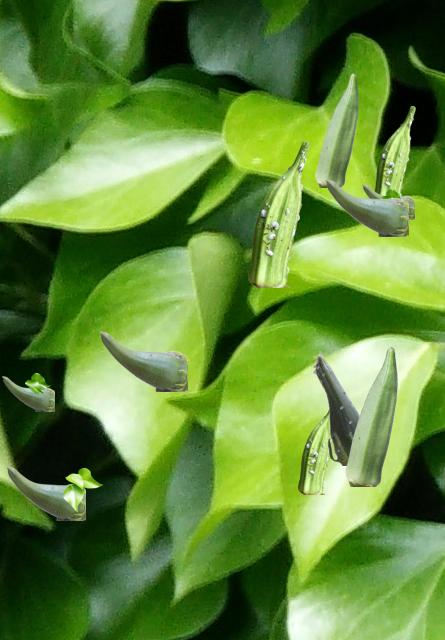okra: (248, 141, 308, 286), (345, 347, 396, 485), (312, 351, 360, 464), (99, 331, 186, 390), (315, 73, 357, 186), (325, 179, 407, 235), (6, 466, 84, 519), (374, 106, 414, 195), (298, 411, 329, 493), (2, 376, 53, 410), (362, 184, 413, 218)
